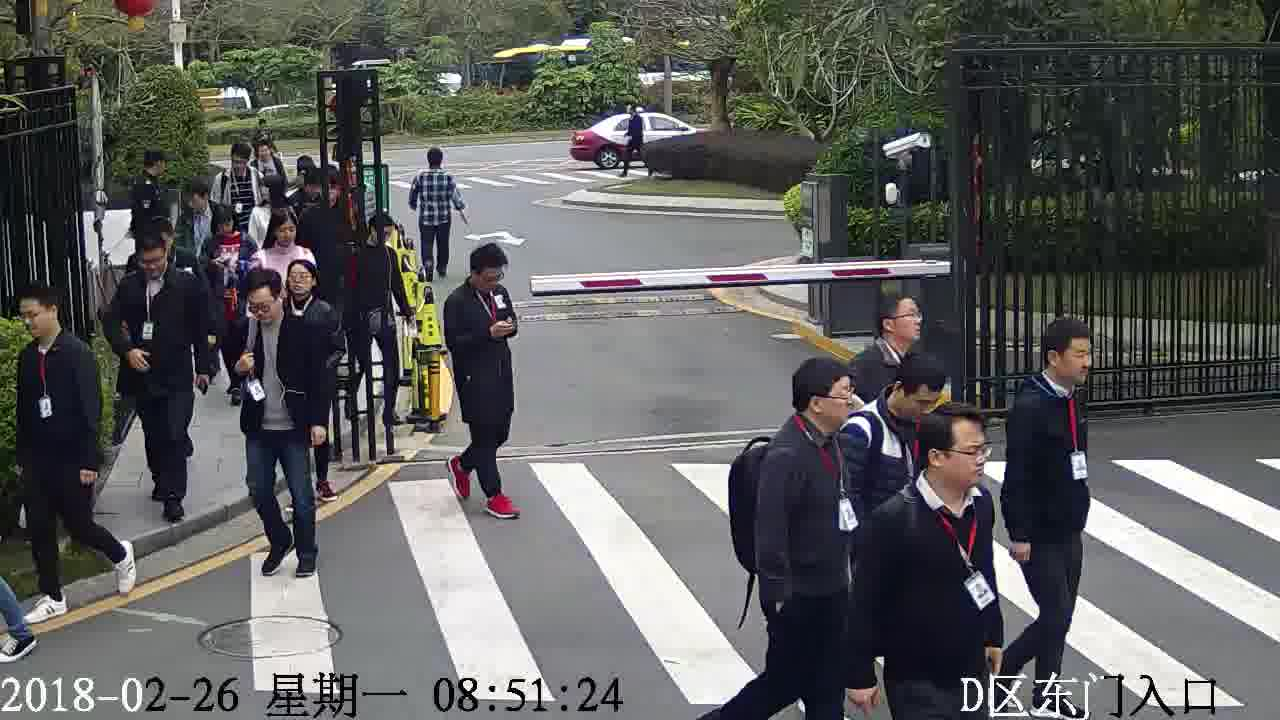face: (931, 421, 995, 486), (1050, 337, 1098, 385), (814, 376, 856, 426), (882, 299, 924, 348), (240, 283, 283, 327), (18, 295, 56, 344), (284, 261, 315, 298)
person: (865, 409, 995, 546), (748, 356, 875, 482), (847, 354, 946, 457), (1008, 315, 1093, 426), (115, 224, 199, 304), (11, 283, 91, 366), (847, 296, 927, 378), (235, 269, 307, 348), (444, 245, 513, 314), (282, 255, 337, 322), (256, 210, 315, 265), (200, 204, 259, 256), (353, 211, 407, 264), (305, 171, 351, 231), (247, 171, 297, 226), (177, 177, 226, 229), (131, 145, 179, 198), (215, 137, 263, 188), (415, 146, 455, 188), (252, 136, 287, 176), (618, 96, 652, 130), (622, 100, 648, 126)
